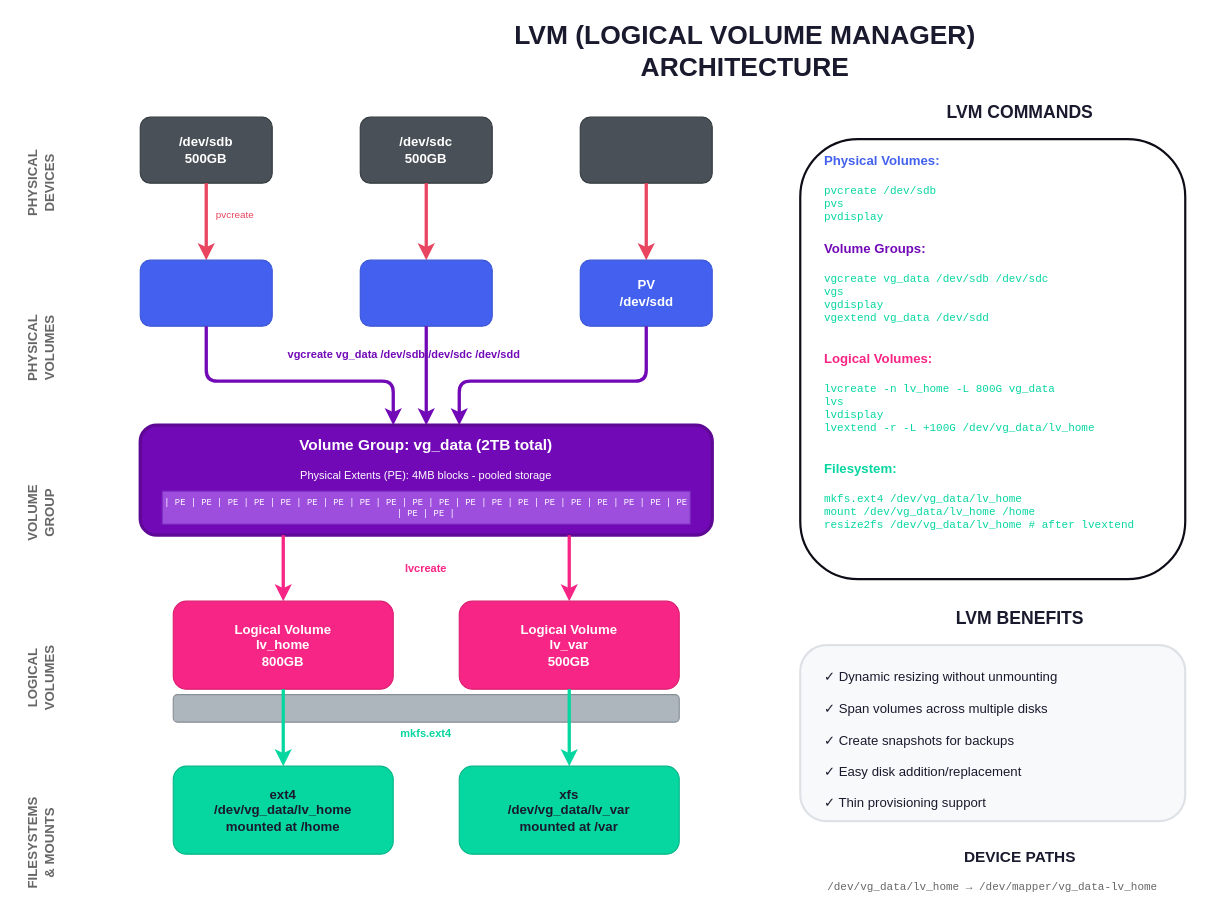
This 1205x916 diagram has some shape labels left out. Each missing label, with the centre of its shape:
"/dev/sdd 1TB" belongs at pixel 645 149.
"FREE 700GB" belongs at pixel 425 708.
"PV /dev/sdb" belongs at pixel 205 292.
"PV /dev/sdc" belongs at pixel 425 292.
